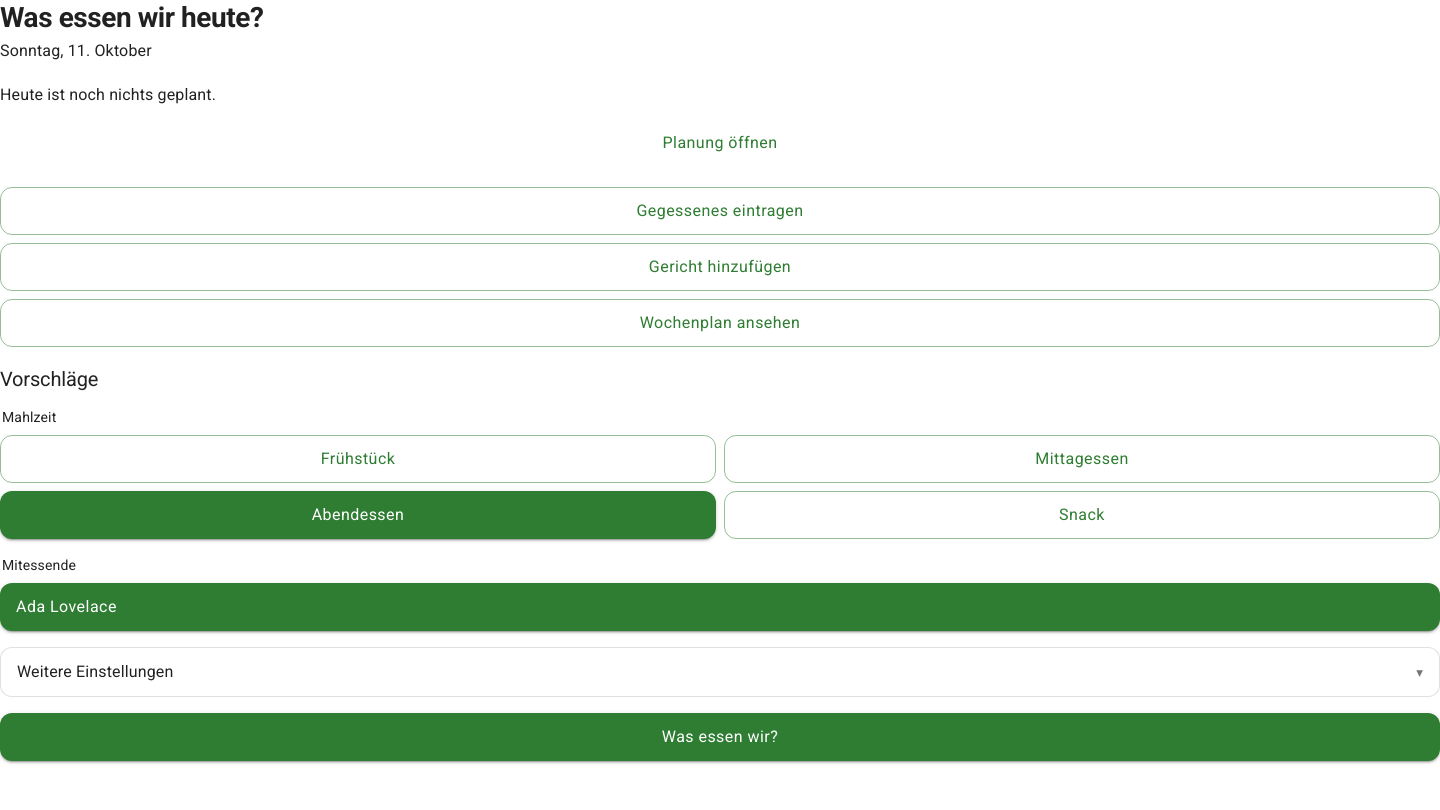
it: öffnet das Erfassen mit heutigem Datum und ohne Kommentarfeld
Click the button with test id "quick-eaten" at [720, 211], box [0, 187, 1439, 235]
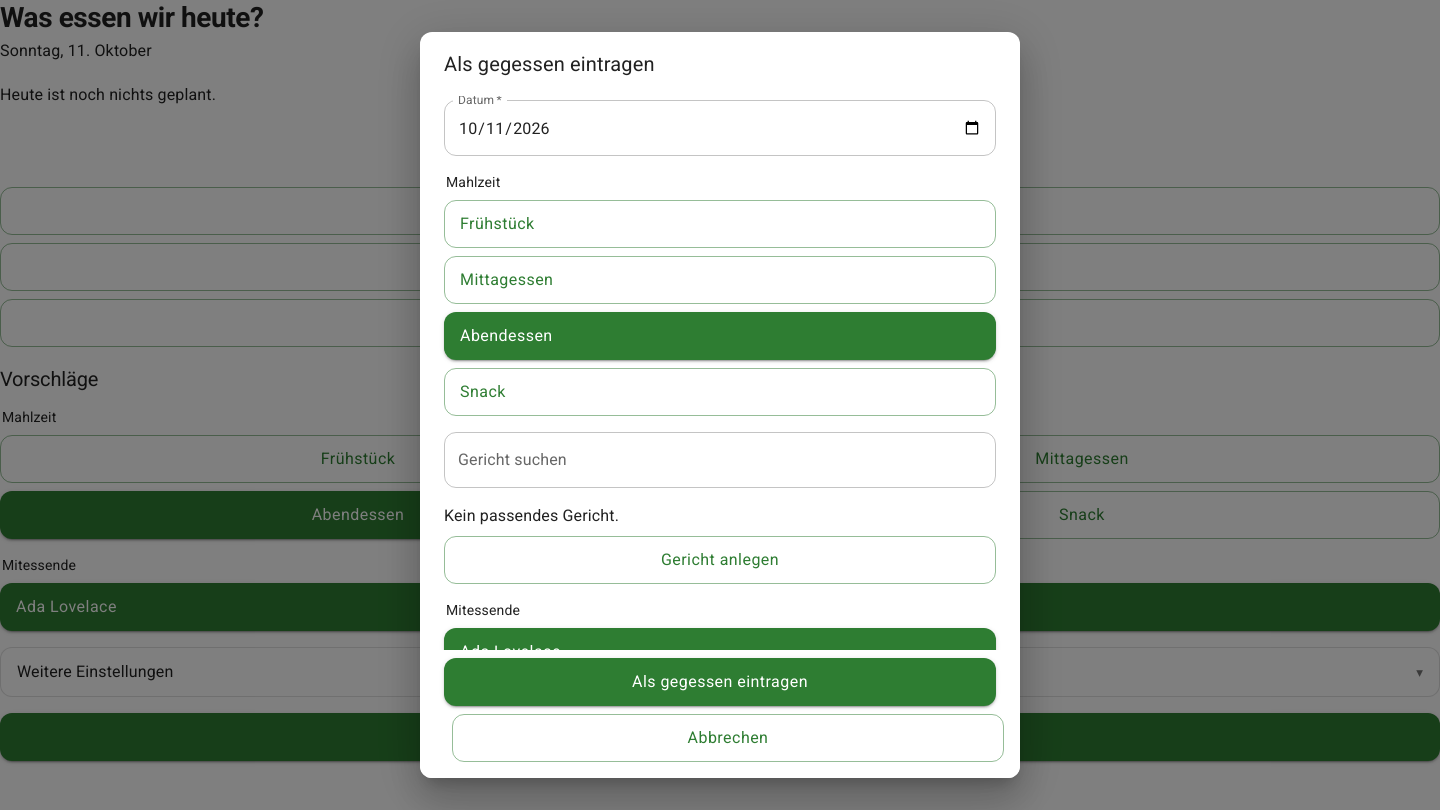
expect the heading "Als gegessen eintragen" is shown: met, box [444, 52, 655, 76]
expect the date field with test id "meal-date" holds "2026-10-11": met, box [444, 100, 996, 156]
expect the button with test id "meal-save" is shown: met, box [444, 658, 996, 706]
